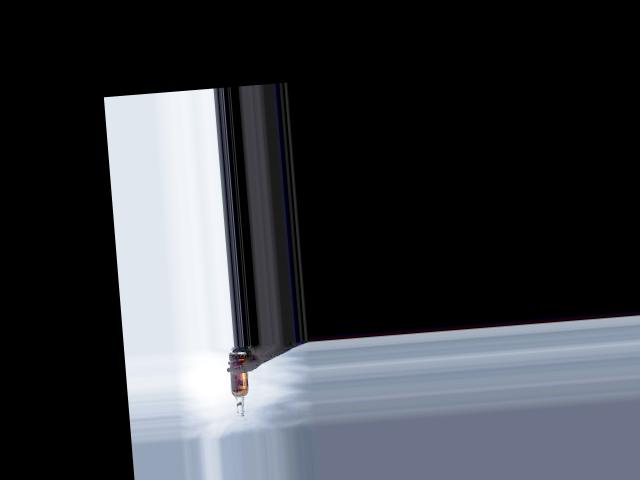beer: (229, 351, 251, 417)
